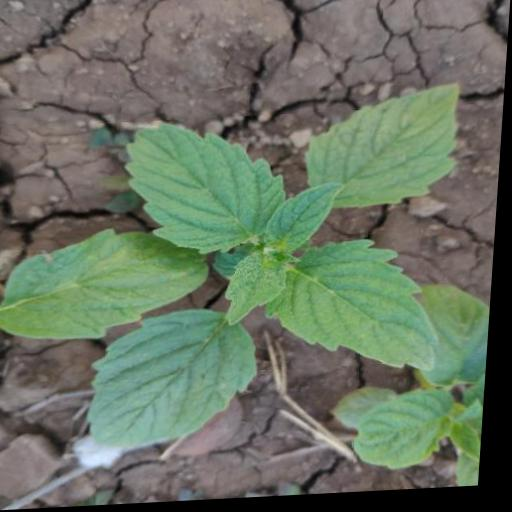crop: (0, 83, 507, 479)
